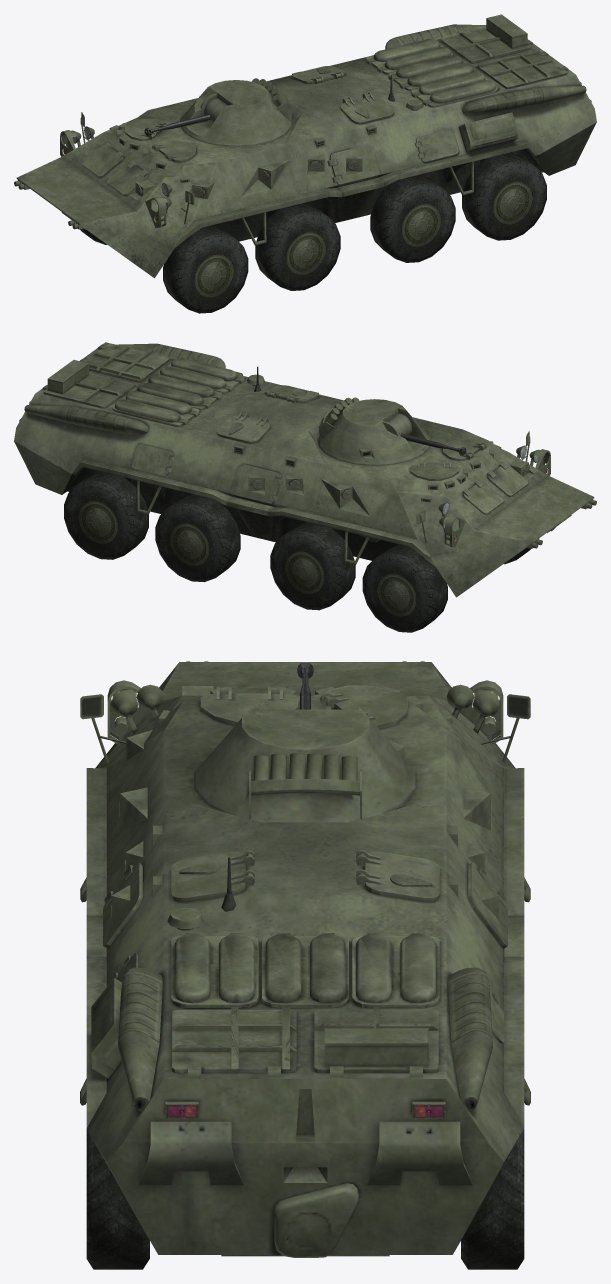
Rendered from btr-80.fbx.
The picture shows the model from 3 angles, top to bottom: view 1: azimuth 30°, elevation 25°; view 2: azimuth 150°, elevation 25°; view 3: azimuth 270°, elevation 25°; orthographic projection. The views are drawn at different scales.
Parts seen in each view (by area): view 1: BTR; view 2: BTR; view 3: BTR.
Part boxes in pixels (left/top/right/bottom): BTR: left=14, top=14, right=596, bottom=313; BTR: left=14, top=342, right=596, bottom=632; BTR: left=80, top=661, right=530, bottom=1269.
Bounding box in the file's own units: 420 × 129 × 161.
